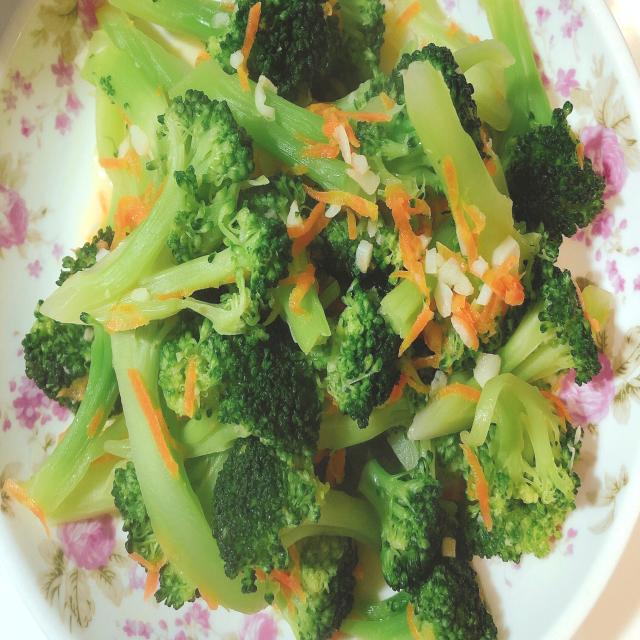Broccoli: (40, 51, 592, 610)
